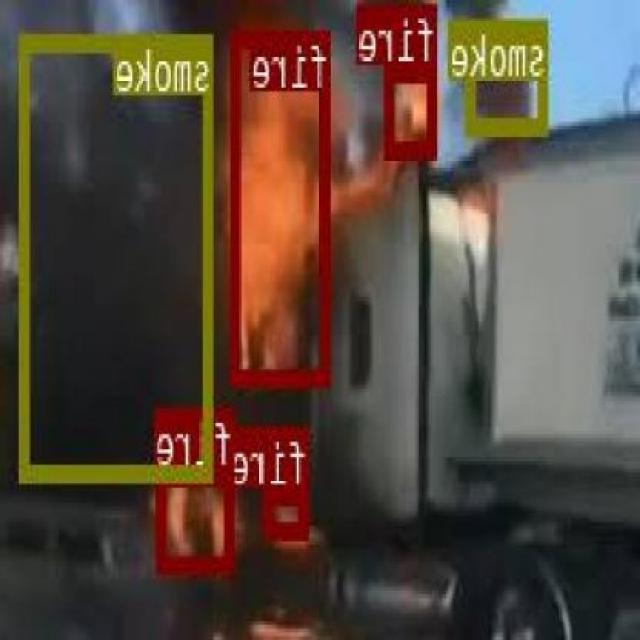Fire: (240, 31, 328, 354), (362, 42, 448, 165)
Smoke: (0, 21, 220, 506), (445, 0, 543, 123)
